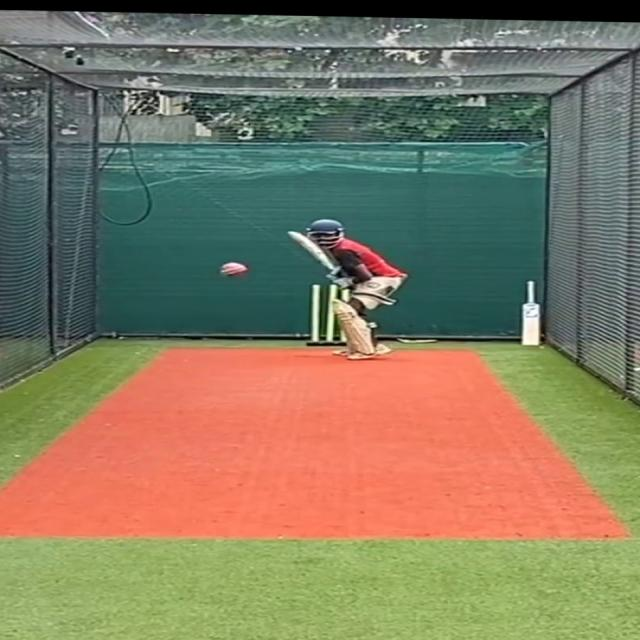ball: (210, 257, 250, 282)
stump: (305, 280, 339, 348)
